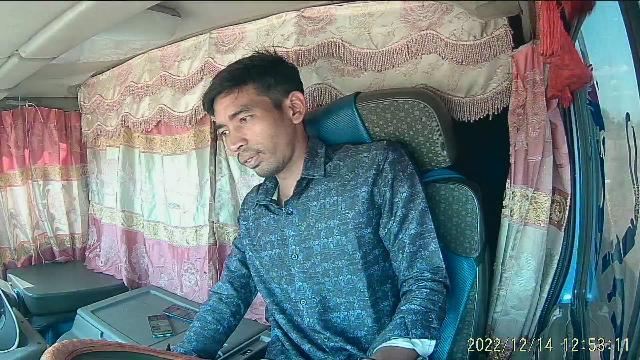PhoneUse: (163, 304, 205, 324), (146, 311, 176, 339)
SafeDriving: (234, 108, 259, 127)
